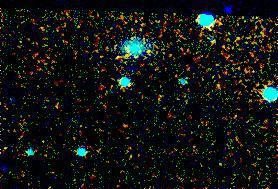star: (135, 35, 165, 65)
